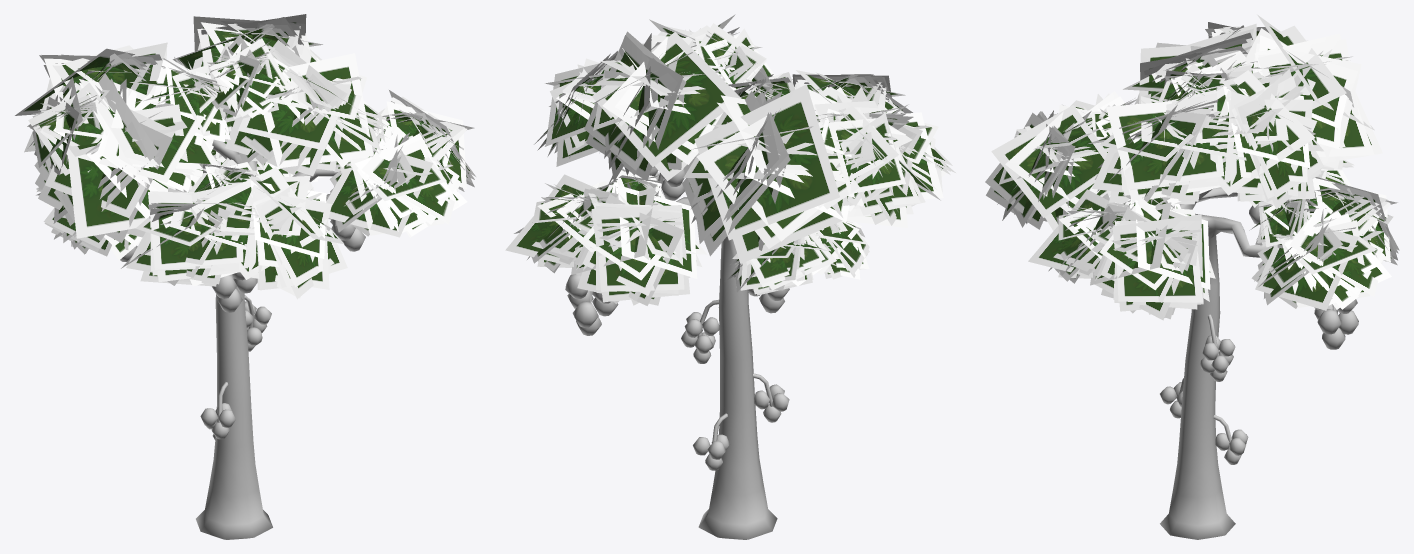
The model's file is TowerModel_Brazilnut.fbx.
3 renders of one model, left to right at view 1: azimuth 30°, elevation 25°; view 2: azimuth 150°, elevation 25°; view 3: azimuth 270°, elevation 25°, orthographic. The views are drawn at different scales.
Visible parts, largest first — view 1: BrazilNutTree; view 2: BrazilNutTree; view 3: BrazilNutTree.
Part boxes in pixels (box(x1,y1,x2,y2)): BrazilNutTree: box(15, 14, 475, 539); BrazilNutTree: box(505, 14, 955, 539); BrazilNutTree: box(985, 14, 1399, 539).
Bounding box in the file's own units: 1142 × 1352 × 1077.
